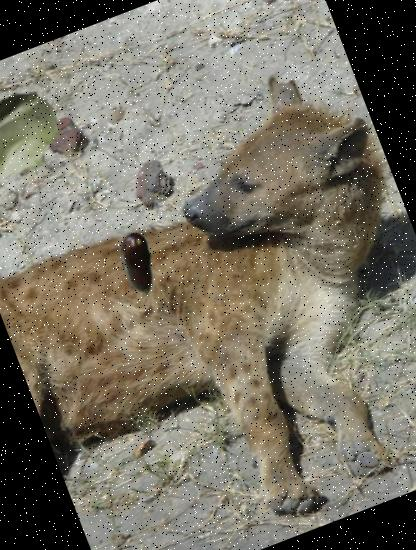Eggplant: (93, 220, 182, 310)
Kohlrabi: (0, 71, 75, 196)
